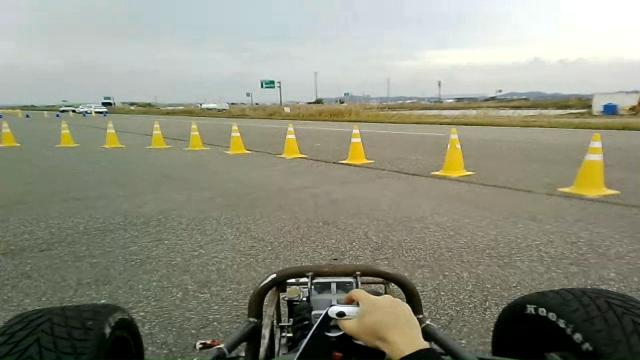yellow cone: (557, 132, 621, 197), (430, 127, 476, 178), (337, 124, 375, 165), (276, 123, 308, 159), (223, 122, 251, 154), (182, 121, 210, 150), (145, 120, 172, 148), (54, 120, 80, 147), (101, 120, 126, 148), (0, 119, 20, 146), (446, 127, 461, 149)
